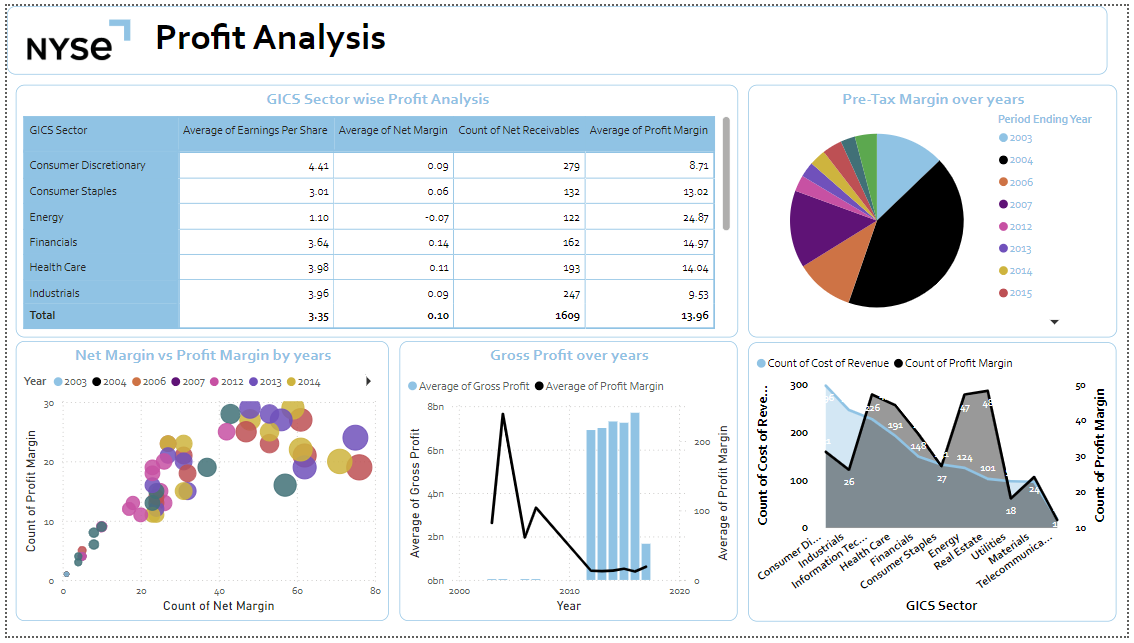

Layout of this report page (visuals, bound fields, positions):
{"tool":"powerbi","page":{"name":"Profit Analysis","canvas":[1280,720],"ordinal":1},"visuals":[{"type":"group","id":"g1","title":"Group 2","box":[0,0,1257.5,78.8],"z":0},{"type":"pivotTable","title":"GICS Sector wise Profit Analysis","fields":{"Rows":["fundamentals_with_risk_scores.GICS Sector"],"Values":["Avg(fundamentals_with_risk_scores.Earnings Per Share)","Avg(fundamentals_with_risk_scores.Net Margin)","Count(fundamentals_with_risk_scores.Net Receivables)","Avg(fundamentals_with_risk_scores.Profit Margin)"]},"box":[10,90,825.7,288.6],"z":1000},{"type":"scatterChart","title":"Net Margin vs Profit Margin by years ","fields":{"Y":["Count(fundamentals_with_risk_scores.Profit Margin)"],"X":["Count(fundamentals_with_risk_scores.Net Margin)"],"Category":["fundamentals_with_risk_scores.GICS Sector"],"Size":["Count(fundamentals_with_risk_scores.Cost of Revenue)"],"Series":["fundamentals_with_risk_scores.Period Ending.Variation.Date Hierarchy.Year"]},"box":[10,383.3,426.7,320],"z":2000},{"type":"areaChart","fields":{"Y":["Count(fundamentals_with_risk_scores.Cost of Revenue)"],"Y2":["Count(fundamentals_with_risk_scores.Profit Margin)"],"Category":["fundamentals_with_risk_scores.GICS Sector"]},"box":[847,384.3,421,319.5],"z":3000},{"type":"textbox","box":[0,0,1257.5,78.8],"z":4000,"group":"g1"},{"type":"pieChart","title":"Pre-Tax Margin over years","fields":{"Y":["Avg(fundamentals_with_risk_scores.Pre-Tax Margin)"],"Category":["fundamentals_with_risk_scores.Period Ending.Variation.Date Hierarchy.Year"]},"box":[847.1,90,421.4,288.6],"z":4000},{"type":"lineStackedColumnComboChart","title":"Gross Profit over years","fields":{"Category":["fundamentals_with_risk_scores.Period Ending.Variation.Date Hierarchy.Year"],"Y":["Avg(fundamentals_with_risk_scores.Gross Profit)"],"Y2":["Avg(fundamentals_with_risk_scores.Profit Margin)"]},"box":[448.3,383.3,386.7,320],"z":5000},{"type":"image","box":[18.1,4.9,127.2,68.5],"z":8000,"group":"g1"}]}

Visuals, with their boxes in screenshot pixels (x1, y1, x2, y2), scaled from the page's 1280x720 canvas onto the 1134x643 screenshot:
"Group 2" group: <bbox>0, 0, 1114, 70</bbox>
"GICS Sector wise Profit Analysis" pivotTable: <bbox>9, 80, 740, 338</bbox>
"Net Margin vs Profit Margin by years " scatterChart: <bbox>9, 342, 387, 628</bbox>
areaChart - Count(fundamentals_with_risk_scores.Cost of Revenue) x Count(fundamentals_with_risk_scores.Profit Margin): <bbox>750, 343, 1123, 629</bbox>
textbox: <bbox>0, 0, 1114, 70</bbox>
"Pre-Tax Margin over years" pieChart: <bbox>750, 80, 1124, 338</bbox>
"Gross Profit over years" lineStackedColumnComboChart: <bbox>397, 342, 740, 628</bbox>
image: <bbox>16, 4, 129, 66</bbox>
